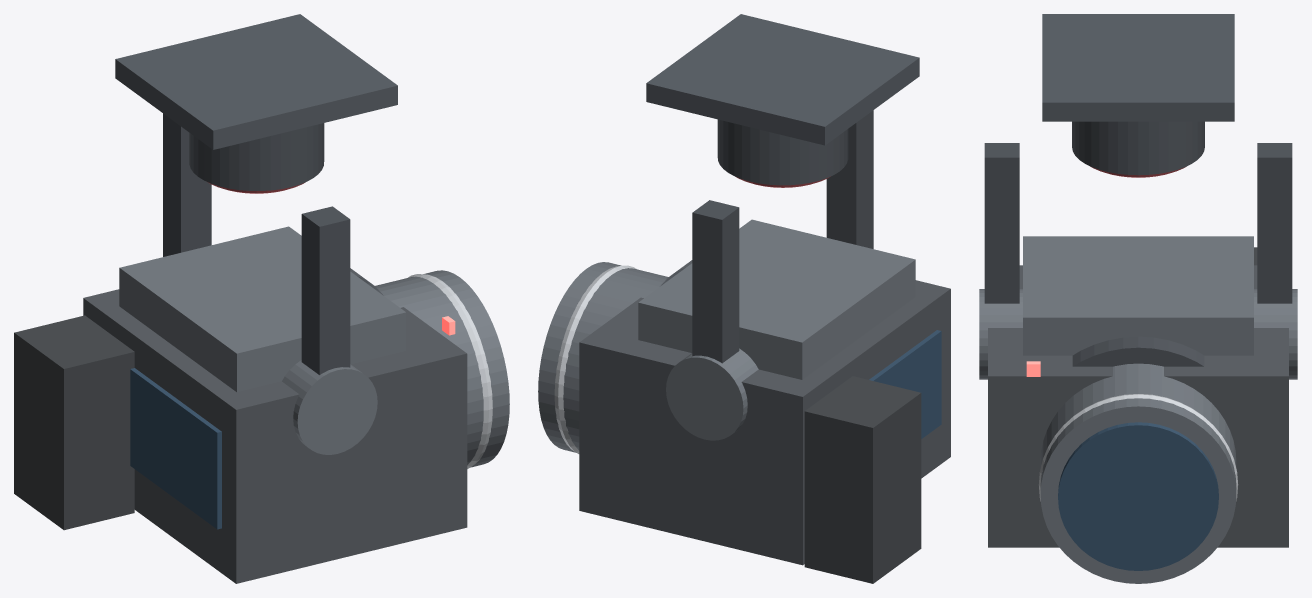
Rendered from payload_camera_300g.glb.
The picture shows the model from 3 angles, left to right: view 1: azimuth 30°, elevation 25°; view 2: azimuth 150°, elevation 25°; view 3: azimuth 270°, elevation 25°; orthographic projection. The views are drawn at different scales.
Parts seen in each view (by area): view 1: camera_body, body_top, mount_plate, grip, rear_screen, lens_barrel, right_arm, yaw_motor, roll_motor_r, left_arm, focus_ring; view 2: camera_body, body_top, mount_plate, grip, lens_barrel, left_arm, yaw_motor, roll_motor_l, right_arm, rear_screen, focus_ring; view 3: camera_body, body_top, mount_plate, front_glass, lens_barrel, yaw_motor, left_arm, right_arm, lens_mount, roll_motor_l, roll_motor_r, focus_ring.
Part boxes in pixels (x1=…): camera_body: x1=83, y1=268, x2=467, y2=583; body_top: x1=119, y1=226, x2=406, y2=392; mount_plate: x1=115, y1=14, x2=397, y2=149; grip: x1=14, y1=315, x2=134, y2=530; rear_screen: x1=130, y1=368, x2=221, y2=529; lens_barrel: x1=375, y1=270, x2=509, y2=467; right_arm: x1=301, y1=206, x2=350, y2=374; yaw_motor: x1=189, y1=123, x2=324, y2=190; roll_motor_r: x1=282, y1=360, x2=377, y2=454; left_arm: x1=163, y1=113, x2=211, y2=256; focus_ring: x1=408, y1=274, x2=492, y2=468; camera_body: x1=579, y1=260, x2=950, y2=565; body_top: x1=638, y1=219, x2=915, y2=379; mount_plate: x1=646, y1=14, x2=919, y2=145; grip: x1=804, y1=376, x2=921, y2=583; lens_barrel: x1=538, y1=262, x2=668, y2=452; left_arm: x1=692, y1=200, x2=739, y2=363; yaw_motor: x1=717, y1=119, x2=848, y2=185; roll_motor_l: x1=666, y1=348, x2=758, y2=440; right_arm: x1=826, y1=110, x2=873, y2=248; rear_screen: x1=869, y1=330, x2=941, y2=438; focus_ring: x1=554, y1=265, x2=636, y2=453; camera_body: x1=988, y1=265, x2=1288, y2=547; body_top: x1=1023, y1=236, x2=1253, y2=355; mount_plate: x1=1042, y1=14, x2=1234, y2=121; front_glass: x1=1058, y1=422, x2=1218, y2=570; lens_barrel: x1=1040, y1=363, x2=1236, y2=583; yaw_motor: x1=1072, y1=121, x2=1204, y2=175; left_arm: x1=1257, y1=143, x2=1292, y2=303; right_arm: x1=984, y1=143, x2=1019, y2=303; lens_mount: x1=1072, y1=336, x2=1204, y2=366; roll_motor_l: x1=1254, y1=289, x2=1297, y2=379; roll_motor_r: x1=979, y1=289, x2=1022, y2=379; focus_ring: x1=1038, y1=394, x2=1238, y2=501.
Bounding box in the file's own units: 0.1225 × 0.14 × 0.091.
